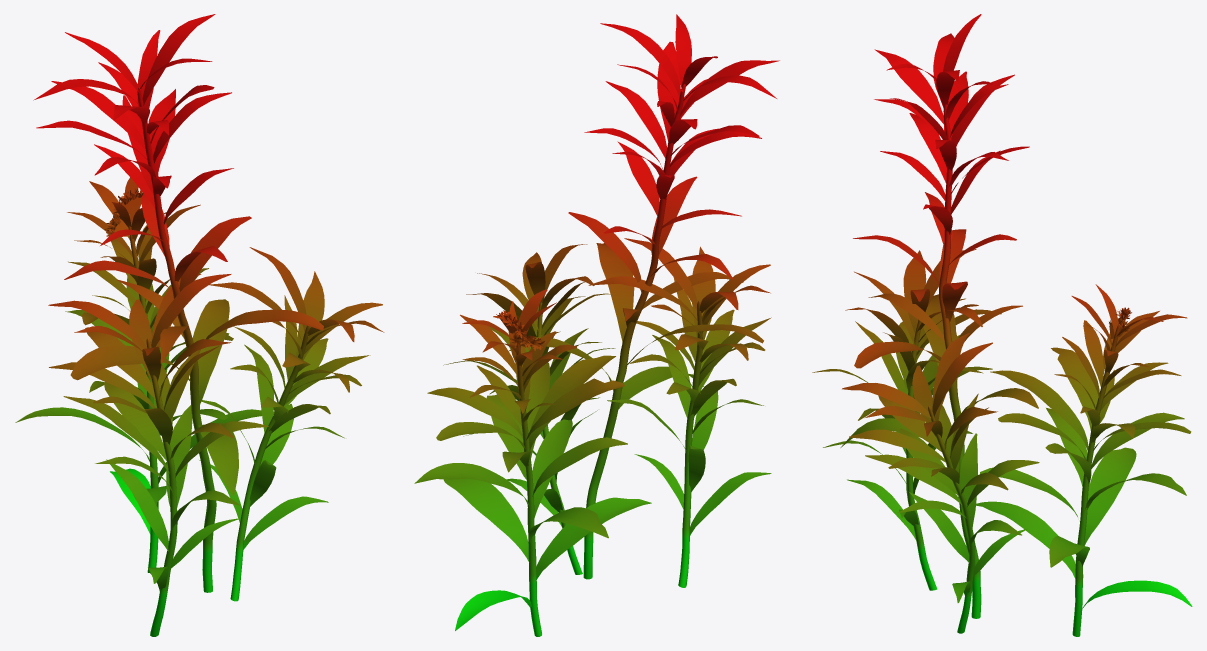
Rendered from Goldenrods_LOD2_Var7.fbx.
The picture shows the model from 3 angles, left to right: view 1: azimuth 30°, elevation 25°; view 2: azimuth 150°, elevation 25°; view 3: azimuth 270°, elevation 25°; orthographic projection. The views are drawn at different scales.
Visible parts, largest first — view 1: _80ac_Var7_LOD2; view 2: _80ac_Var7_LOD2; view 3: _80ac_Var7_LOD2.
Part boxes in pixels (x1,y1,x2,y2): _80ac_Var7_LOD2: (15,14,384,636); _80ac_Var7_LOD2: (414,14,779,636); _80ac_Var7_LOD2: (812,14,1192,636).
Size of the model in its own units: 50.68 by 88.05 by 54.45.
